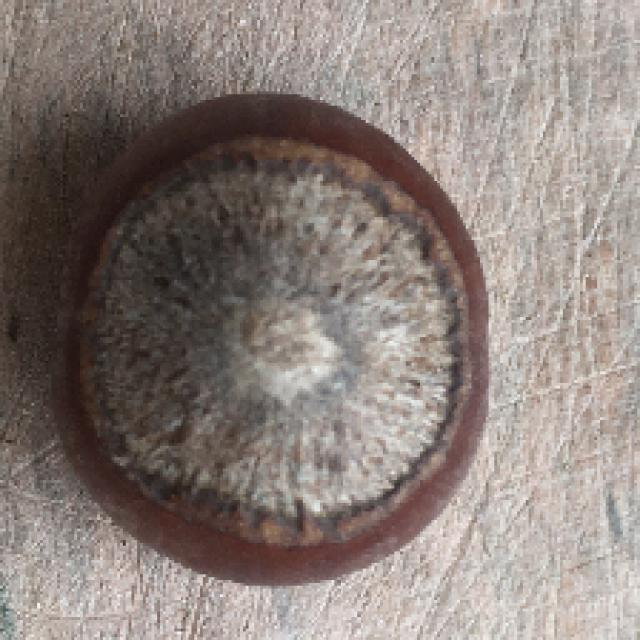damagedHazelnut: (60, 83, 496, 581)
